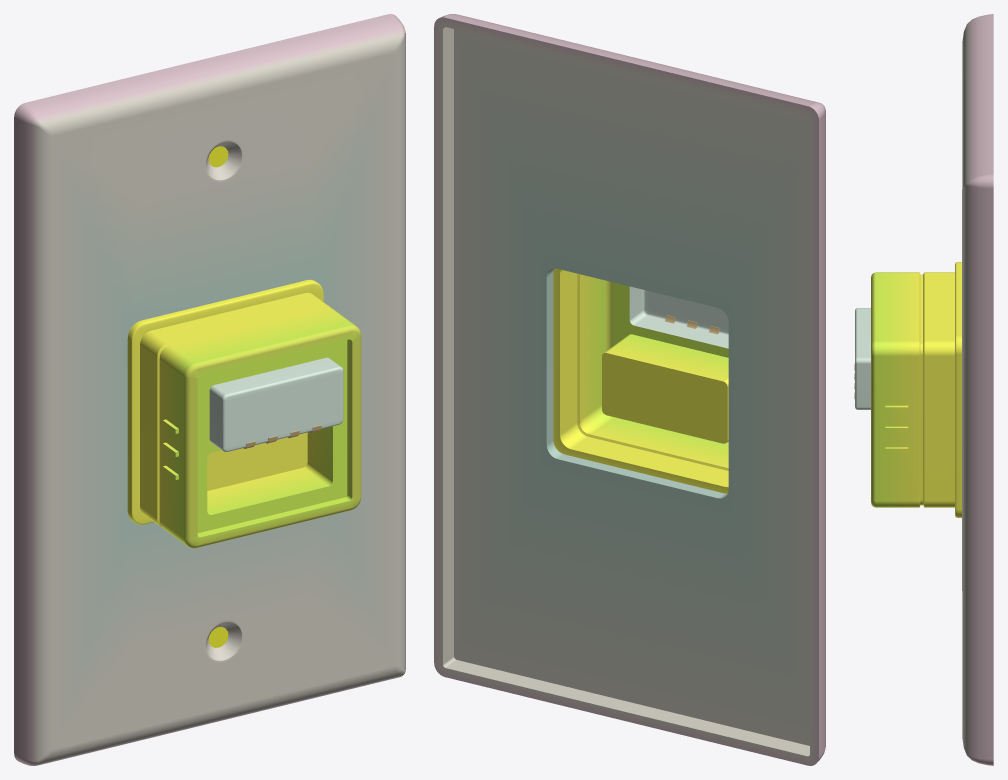
The model's file is Kit_JackData.fbx.
3 views of the same model, side by side, from view 1: azimuth 30°, elevation 25°; view 2: azimuth 150°, elevation 25°; view 3: azimuth 270°, elevation 25° (orthographic). The views are drawn at different scales.
Visible parts, largest first — view 1: Kit_JackData_LOD0; view 2: Kit_JackData_LOD0; view 3: Kit_JackData_LOD0.
Boxes of the visible parts, box(x1,y1,x2,y2) form: Kit_JackData_LOD0: box(14, 14, 405, 765); Kit_JackData_LOD0: box(434, 14, 825, 765); Kit_JackData_LOD0: box(854, 14, 993, 765).
Size of what is drawn, in the model's own units: 0.0698 by 0.1143 by 0.0245.
